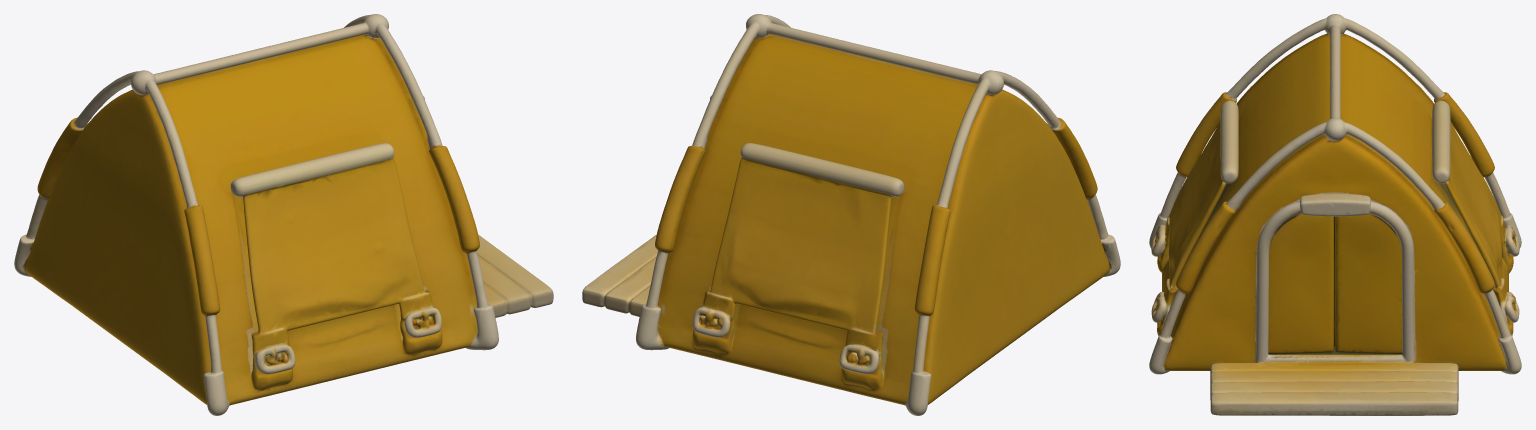
File: CampTentHouse.glb
3 renders of one model, left to right at view 1: azimuth 30°, elevation 25°; view 2: azimuth 150°, elevation 25°; view 3: azimuth 270°, elevation 25°, orthographic. The views are drawn at different scales.
Visible parts, largest first — view 1: tripo_node_b1bead84-c489-4427-b8c9-89cffd8cf5c7; view 2: tripo_node_b1bead84-c489-4427-b8c9-89cffd8cf5c7; view 3: tripo_node_b1bead84-c489-4427-b8c9-89cffd8cf5c7.
Boxes of the visible parts, bbox=[...] form: tripo_node_b1bead84-c489-4427-b8c9-89cffd8cf5c7: bbox=[14, 14, 553, 415]; tripo_node_b1bead84-c489-4427-b8c9-89cffd8cf5c7: bbox=[582, 14, 1120, 415]; tripo_node_b1bead84-c489-4427-b8c9-89cffd8cf5c7: bbox=[1149, 14, 1521, 415].
Size of the model in its own units: 1 by 0.6817 by 0.9268.
1 material, 1 textured.
